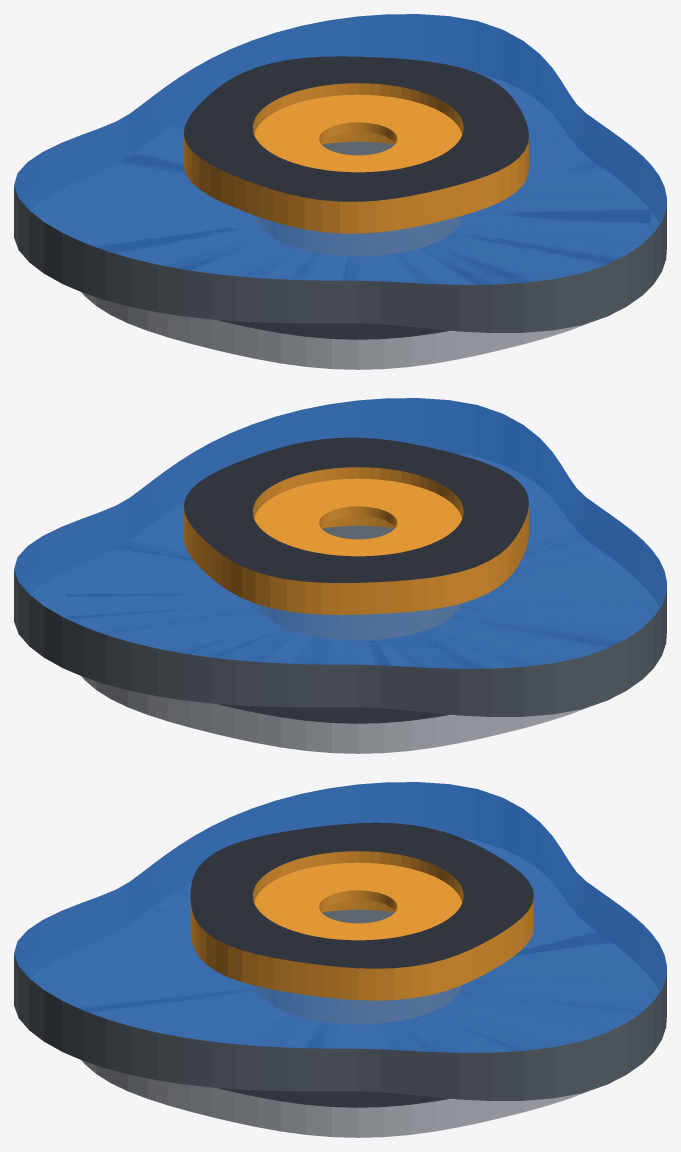
Rendered from assembly_phase2b_gear_medium.glb.
3 views of the same model, one above another, from view 1: azimuth 30°, elevation 25°; view 2: azimuth 150°, elevation 25°; view 3: azimuth 270°, elevation 25° (orthographic).
Visible parts, largest first — view 1: GEO_blade_storm_fang_BODY, GEO_core_solar_wolf_BODY, GEO_assist_heavy_BODY, GEO_core_solar_wolf_NSS_V1_COLLAR, GEO_blade_storm_fang_NSS_V1_COLLAR; view 2: GEO_blade_storm_fang_BODY, GEO_core_solar_wolf_BODY, GEO_assist_heavy_BODY, GEO_core_solar_wolf_NSS_V1_COLLAR, GEO_blade_storm_fang_NSS_V1_COLLAR; view 3: GEO_blade_storm_fang_BODY, GEO_core_solar_wolf_BODY, GEO_assist_heavy_BODY, GEO_core_solar_wolf_NSS_V1_COLLAR, GEO_blade_storm_fang_NSS_V1_COLLAR.
Part boxes in pixels (x1,y1,x2,y2): GEO_blade_storm_fang_BODY: (14, 14, 666, 332); GEO_core_solar_wolf_BODY: (184, 56, 528, 233); GEO_assist_heavy_BODY: (70, 120, 650, 369); GEO_core_solar_wolf_NSS_V1_COLLAR: (254, 94, 462, 172); GEO_blade_storm_fang_NSS_V1_COLLAR: (321, 141, 394, 155); GEO_blade_storm_fang_BODY: (14, 398, 666, 716); GEO_core_solar_wolf_BODY: (184, 437, 528, 614); GEO_assist_heavy_BODY: (65, 532, 615, 753); GEO_core_solar_wolf_NSS_V1_COLLAR: (254, 478, 462, 556); GEO_blade_storm_fang_NSS_V1_COLLAR: (321, 525, 394, 539); GEO_blade_storm_fang_BODY: (14, 782, 666, 1100); GEO_core_solar_wolf_BODY: (190, 822, 533, 1000); GEO_assist_heavy_BODY: (79, 880, 641, 1137); GEO_core_solar_wolf_NSS_V1_COLLAR: (254, 862, 462, 940); GEO_blade_storm_fang_NSS_V1_COLLAR: (321, 909, 394, 923).
Bounding box in the file's own units: 0.0664 × 0.0249 × 0.0669.
